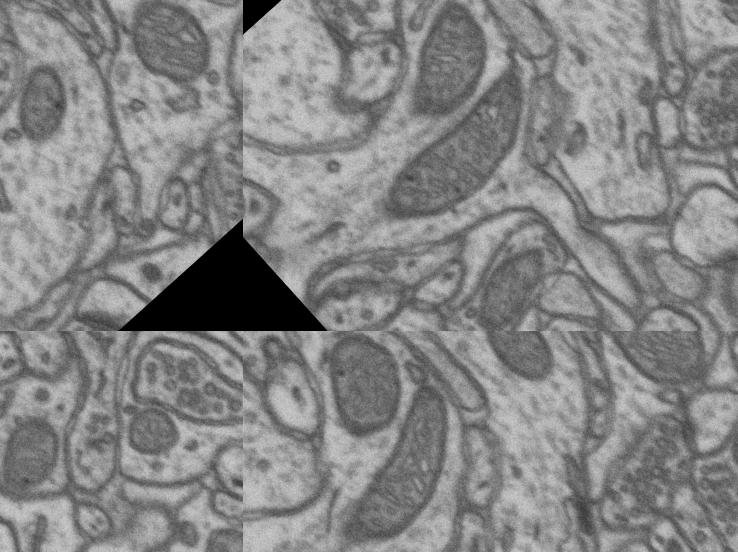mitochondria: (293, 370, 500, 552), (370, 69, 556, 246), (289, 331, 433, 458), (380, 0, 516, 133), (100, 0, 239, 108), (0, 367, 101, 486), (586, 331, 732, 413), (0, 39, 98, 150), (107, 374, 206, 474), (453, 241, 561, 331), (463, 331, 572, 398), (188, 505, 243, 552), (715, 400, 738, 485), (224, 95, 243, 191)
